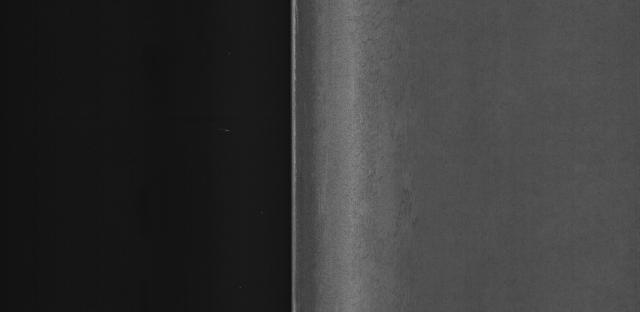silk_spot: (313, 19, 423, 292)
